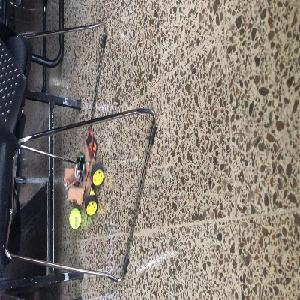Ball: (68, 208, 81, 229)
Robot: (64, 135, 104, 215)
